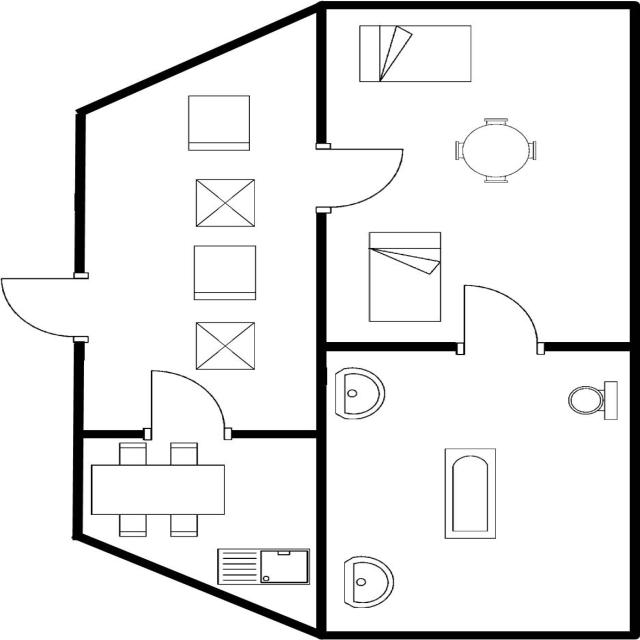bed: (362, 227, 448, 327), (352, 22, 476, 88)
coffee_table: (189, 174, 262, 231), (188, 318, 258, 374)
dining_table: (85, 440, 233, 540)
large_sink: (560, 376, 622, 426)
round_table: (448, 112, 543, 186)
sink: (210, 544, 314, 589)
small_sink: (328, 363, 390, 424), (338, 552, 393, 612)
small_sofa: (180, 90, 258, 156), (186, 240, 263, 304)
tub: (436, 444, 506, 546)
